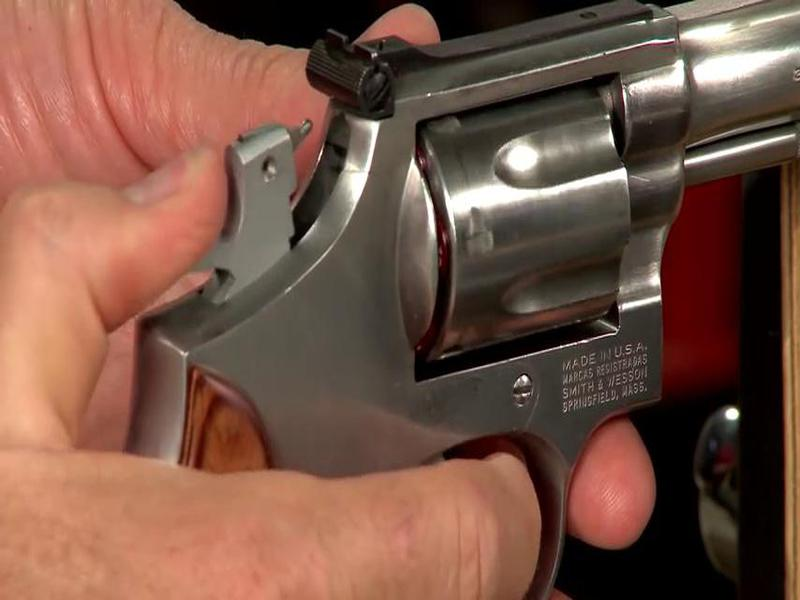Revolver: (126, 1, 796, 503)
